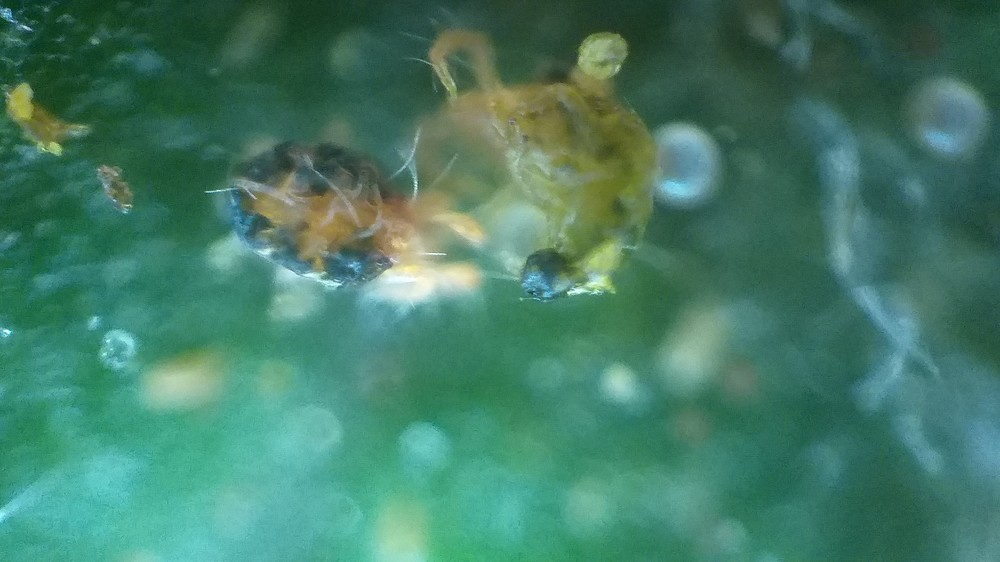Aracnido Rojo: (429, 31, 663, 309), (198, 131, 492, 347)
